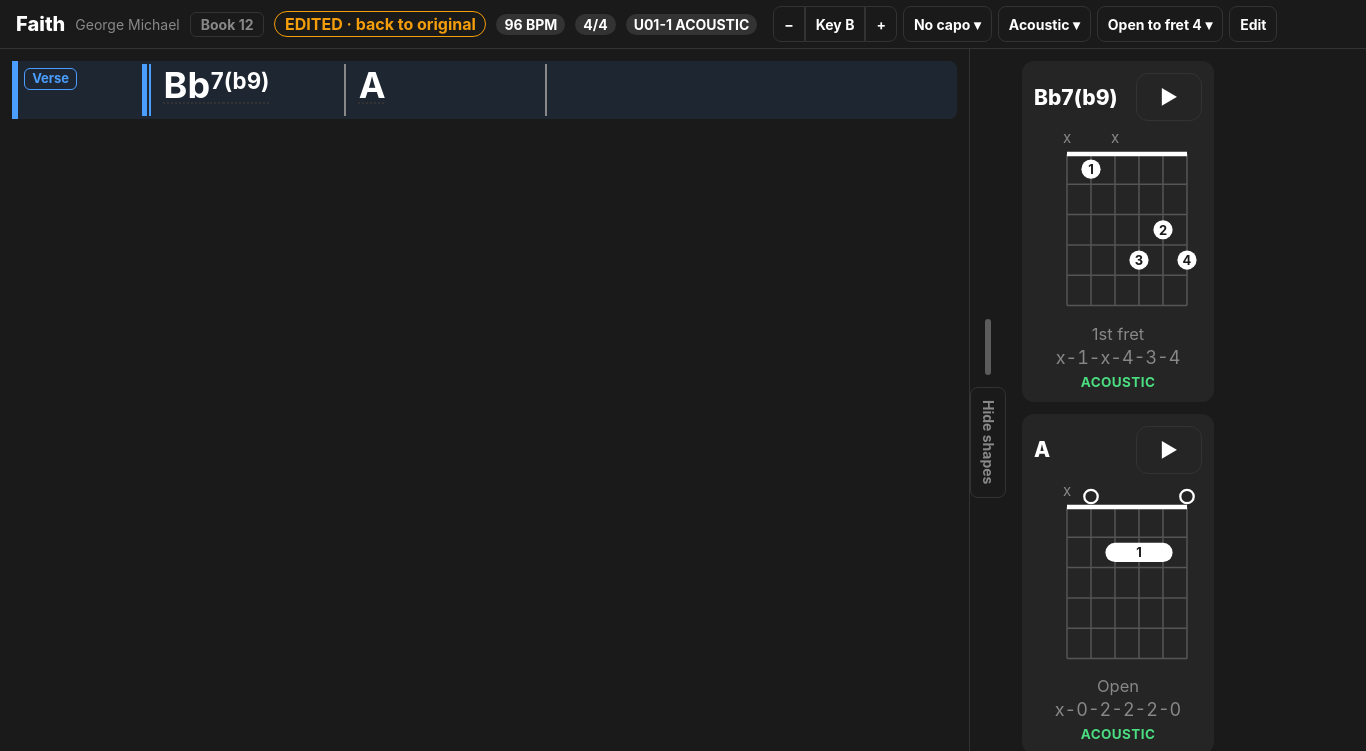
Test: a chart in bands › draws an alteration a little smaller, and a tap on it still picks the whole chord
Click the text "(b9)" at (247, 80), box [224,67,270,94]
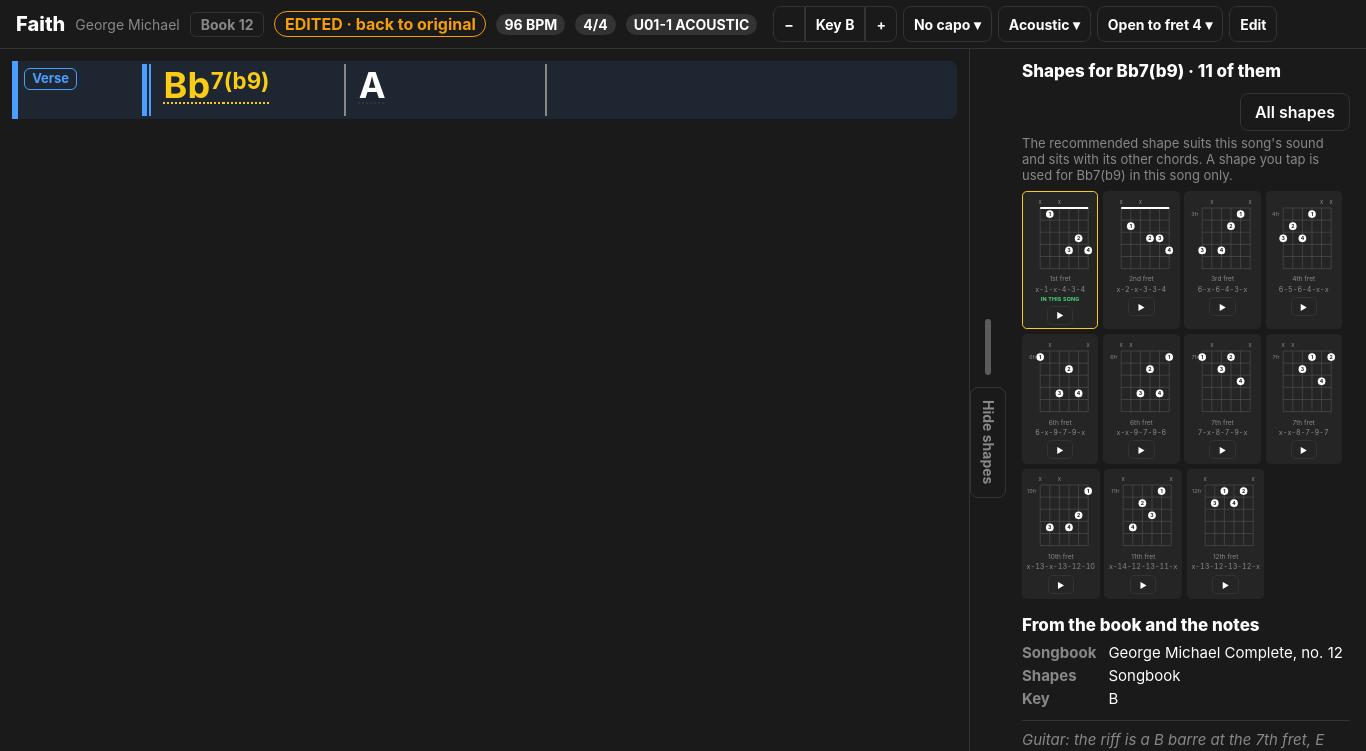
Check: the heading "Shapes for Bb7(b9) · 11 of them" is shown, box [1022,61,1281,81]
